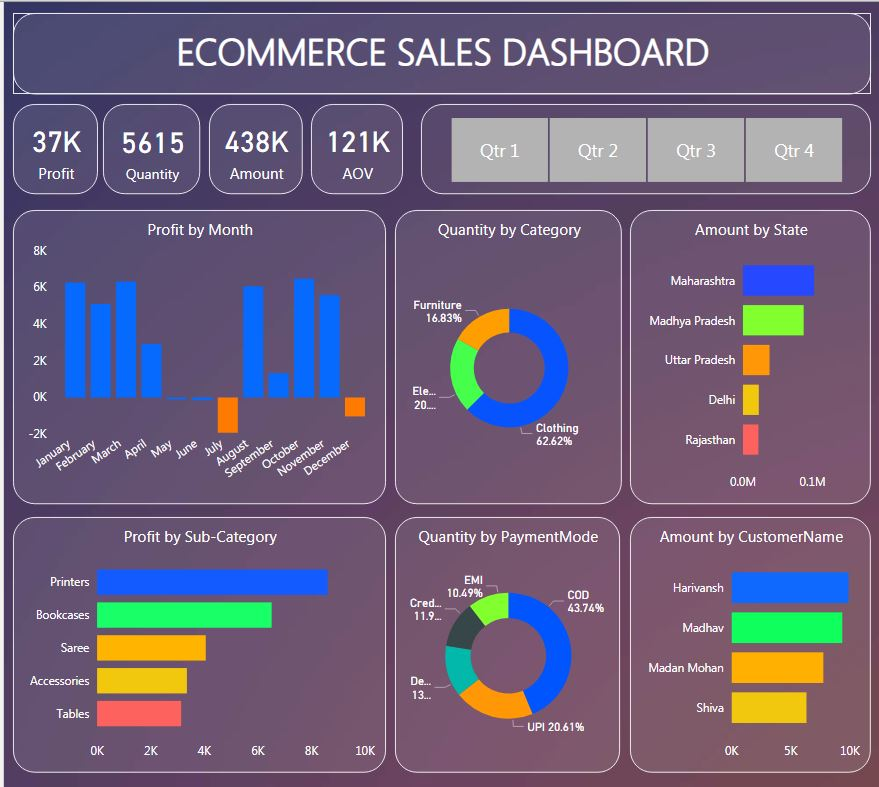

The dashboard page shown, as its layout file describes it:
{"tool":"powerbi","page":{"name":"Page 1","canvas":[1000,900],"ordinal":0},"visuals":[{"type":"textbox","box":[10.3,12.6,979.9,92.5],"z":0},{"type":"card","fields":{"Values":["Details.AOV"]},"box":[350.6,116.5,105.1,102.8],"z":1000},{"type":"clusteredBarChart","fields":{"Category":["Orders.CustomerName"],"Y":["Details.Amount"]},"box":[715,588.2,275.3,292.4],"z":2000},{"type":"slicer","fields":{"Values":["Orders.Order Date.Variation.Date Hierarchy.Quarter"]},"box":[476.3,116.5,514,102.8],"z":3000},{"type":"card","fields":{"Values":["Details.Quantity"]},"box":[113.1,116.5,110.8,102.8],"z":4000},{"type":"card","fields":{"Values":["Details.Profit"]},"box":[10.3,116.5,97.1,102.8],"z":5000},{"type":"card","fields":{"Values":["Details.Amount"]},"box":[234.1,116.5,107.4,102.8],"z":6000},{"type":"donutChart","fields":{"Category":["Details.Category"],"Y":["Details.Quantity"]},"box":[446.6,237.6,259.3,335.8],"z":7000},{"type":"clusteredBarChart","fields":{"Category":["Details.Sub-Category"],"Y":["Details.Profit"]},"box":[10.3,588.2,426,292.4],"z":8000},{"type":"clusteredColumnChart","fields":{"Category":["Orders.Order Date.Variation.Date Hierarchy.Month"],"Y":["Details.Profit"]},"box":[10.3,237.6,426,335.8],"z":9000},{"type":"donutChart","fields":{"Y":["Details.Quantity"],"Category":["Details.PaymentMode"]},"box":[446.6,588.2,257,292.4],"z":10000},{"type":"clusteredBarChart","fields":{"Y":["Details.Amount"],"Category":["Orders.State"]},"box":[715,237.6,275.3,335.8],"z":11000}]}

Visuals, with their boxes in screenshot pixels (x1, y1, x2, y2), scaled from the page's 1000x900 canvas onto the 879x787 screenshot:
textbox: Rect(9, 11, 870, 92)
card - Details.AOV: Rect(308, 102, 401, 192)
clusteredBarChart - Orders.CustomerName x Details.Amount: Rect(628, 514, 870, 770)
slicer - Orders.Order Date.Variation.Date Hierarchy.Quarter: Rect(419, 102, 870, 192)
card - Details.Quantity: Rect(99, 102, 197, 192)
card - Details.Profit: Rect(9, 102, 94, 192)
card - Details.Amount: Rect(206, 102, 300, 192)
donutChart - Details.Category x Details.Quantity: Rect(393, 208, 620, 501)
clusteredBarChart - Details.Sub-Category x Details.Profit: Rect(9, 514, 384, 770)
clusteredColumnChart - Orders.Order Date.Variation.Date Hierarchy.Month x Details.Profit: Rect(9, 208, 384, 501)
donutChart - Details.Quantity x Details.PaymentMode: Rect(393, 514, 618, 770)
clusteredBarChart - Details.Amount x Orders.State: Rect(628, 208, 870, 501)
